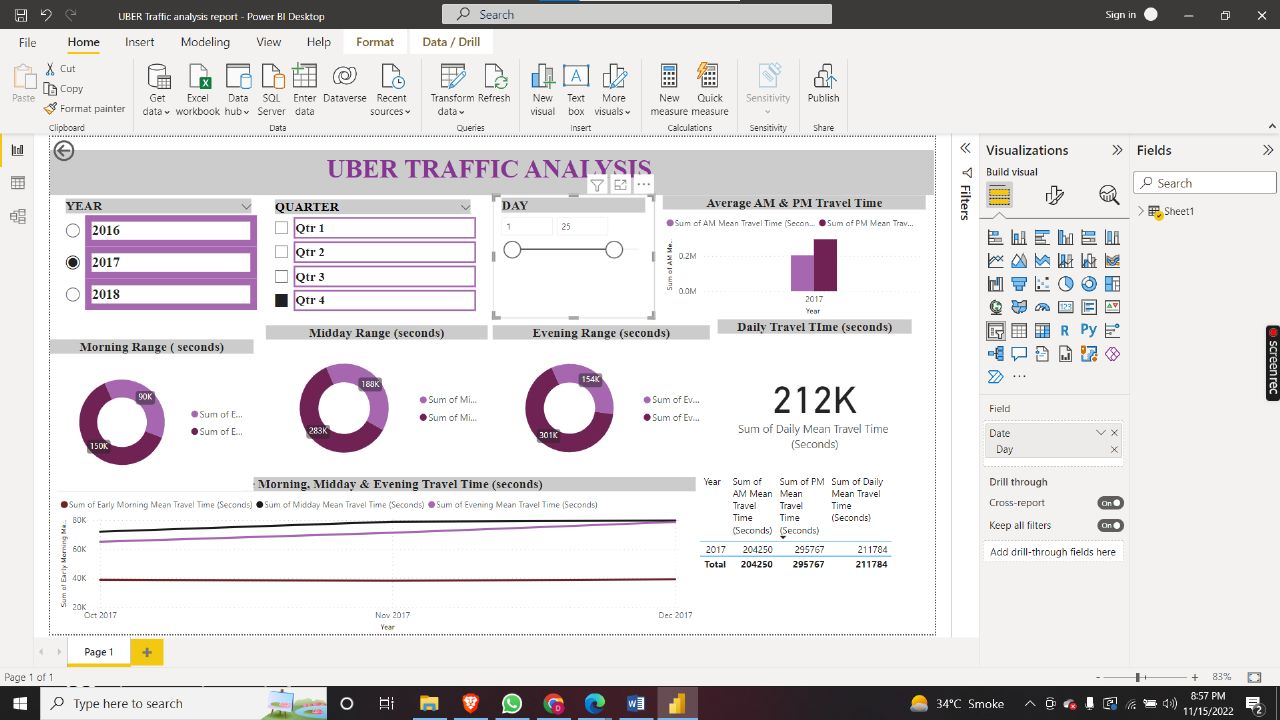

The page's visual inventory and layout, read from the dashboard file:
{"tool":"powerbi","page":{"name":"Page 1","canvas":[1280,720],"ordinal":0},"visuals":[{"type":"textbox","box":[0,19.3,1279.6,65.1],"z":0},{"type":"lineClusteredColumnComboChart","title":"Average AM & PM Travel Time","fields":{"Category":["Sheet1.Date.Variation.Date Hierarchy.Year"],"Y":["Sum(Sheet1.AM Mean Travel Time (Seconds))","Sum(Sheet1.PM Mean Travel Time (Seconds))"]},"box":[886.4,84.4,381.1,178.5],"z":1000},{"type":"actionButton","box":[0,0,100.1,39.8],"z":2000},{"type":"slicer","fields":{"Values":["Sheet1.Date.Variation.Date Hierarchy.Year"]},"box":[9.6,84.4,294.3,183.3],"z":3000},{"type":"lineChart","title":"Average Morning, Midday & Evening Travel Time (seconds)","fields":{"Category":["Sheet1.Date.Variation.Date Hierarchy.Year","Sheet1.Date.Variation.Date Hierarchy.Month"],"Y":["Sum(Sheet1.Early Morning Mean Travel Time (Seconds))","Sum(Sheet1.Midday Mean Travel Time (Seconds))","Sum(Sheet1.Evening Mean Travel Time (Seconds))"]},"box":[9.6,492.1,925,227.9],"z":4000},{"type":"tableEx","fields":{"Values":["Sheet1.Date.Variation.Date Hierarchy.Year","Sum(Sheet1.AM Mean Travel Time (Seconds))","Sum(Sheet1.PM Mean Travel Time (Seconds))","Sum(Sheet1.Daily Mean Travel Time (Seconds))"]},"box":[934.7,482.4,344.9,188.1],"z":6000},{"type":"donutChart","title":"Morning Range ( seconds)","fields":{"Y":["Sum(Sheet1.Early Morning Range - Lower Bound Travel Time (Seconds))","Sum(Sheet1.Early Morning Range - Upper Bound Travel Time (Seconds))"]},"box":[0,293.1,294.3,219.5],"z":7000},{"type":"donutChart","title":"Midday Range (seconds) ","fields":{"Y":["Sum(Sheet1.Midday Range - Lower Bound Travel Time (Seconds))","Sum(Sheet1.Midday Range - Upper Bound Travel Time (Seconds))"]},"box":[312.4,272.6,320.8,219.5],"z":8000},{"type":"donutChart","title":"Evening Range (seconds)","fields":{"Y":["Sum(Sheet1.Evening Range - Lower Bound Travel Time (Seconds))","Sum(Sheet1.Evening Range - Upper Bound Travel Time (Seconds))"]},"box":[640.4,272.6,314.8,219.5],"z":9000},{"type":"card","title":"Daily Travel TIme (seconds)","fields":{"Values":["Sum(Sheet1.Daily Mean Travel Time (Seconds))"]},"box":[966,264.1,281,218.3],"z":11000},{"type":"slicer","fields":{"Values":["Sheet1.Date.Variation.Date Hierarchy.Quarter"]},"box":[312.4,85.6,308.7,179.7],"z":12000},{"type":"slicer","fields":{"Values":["Sheet1.Date.Variation.Date Hierarchy.Day"]},"box":[640.4,83.2,234,179.7],"z":13000}]}

Visuals, with their boxes on the page's 1280x720 design canvas (x1, y1, x2, y2). These are canvas units, not pixel positions in the 1280x720 screenshot, which may show the page scaled, cropped or inside an application window:
textbox: 0,19,1280,84
"Average AM & PM Travel Time" lineClusteredColumnComboChart: 886,84,1268,263
actionButton: 0,0,100,40
slicer - Sheet1.Date.Variation.Date Hierarchy.Year: 10,84,304,268
"Average Morning, Midday & Evening Travel Time (seconds)" lineChart: 10,492,935,720
tableEx - Sheet1.Date.Variation.Date Hierarchy.Year x Sum(Sheet1.AM Mean Travel Time (Seconds)): 935,482,1280,670
"Morning Range ( seconds)" donutChart: 0,293,294,513
"Midday Range (seconds) " donutChart: 312,273,633,492
"Evening Range (seconds)" donutChart: 640,273,955,492
"Daily Travel TIme (seconds)" card: 966,264,1247,482
slicer - Sheet1.Date.Variation.Date Hierarchy.Quarter: 312,86,621,265
slicer - Sheet1.Date.Variation.Date Hierarchy.Day: 640,83,874,263
